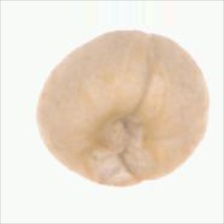L4: (35, 30, 210, 186)
